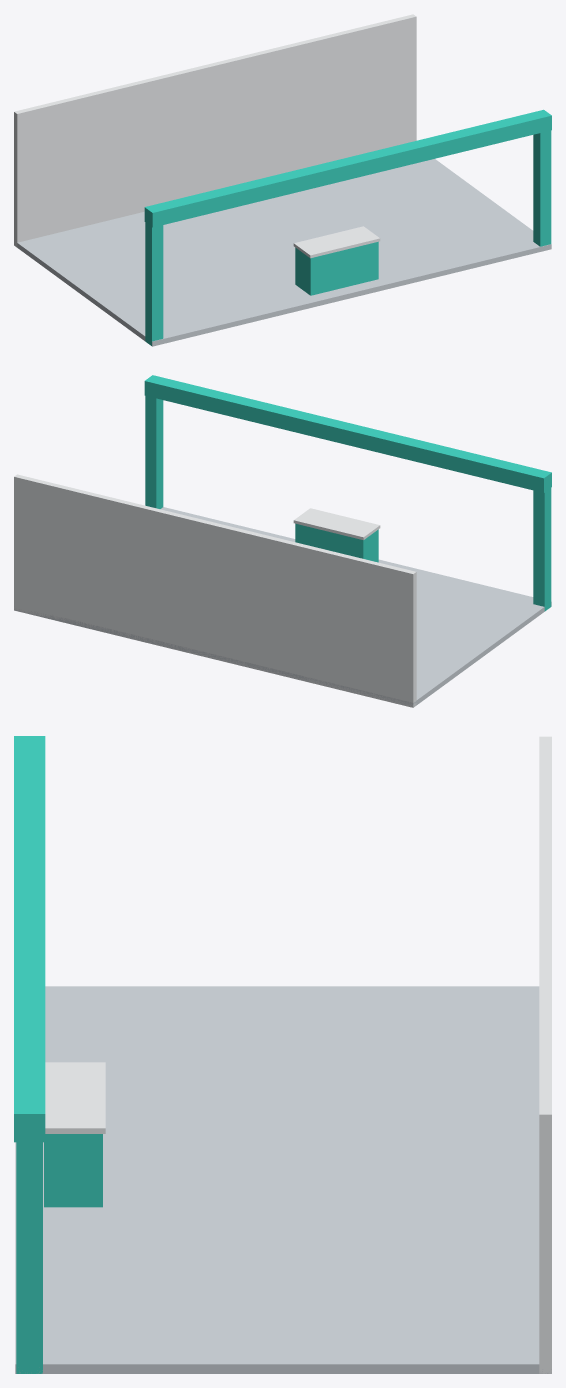
3 renders of one model, top to bottom at view 1: azimuth 30°, elevation 25°; view 2: azimuth 150°, elevation 25°; view 3: azimuth 270°, elevation 25°, orthographic. The views are drawn at different scales.
Visible parts, largest first — view 1: Exhibition Booth Concept; view 2: Exhibition Booth Concept; view 3: Exhibition Booth Concept.
Part boxes in pixels (x1,y1,x2,y2): Exhibition Booth Concept: [14, 14, 551, 346]; Exhibition Booth Concept: [14, 375, 551, 707]; Exhibition Booth Concept: [14, 736, 551, 1373].
Size of the model in its own units: 10 by 3.2 by 6.02.
